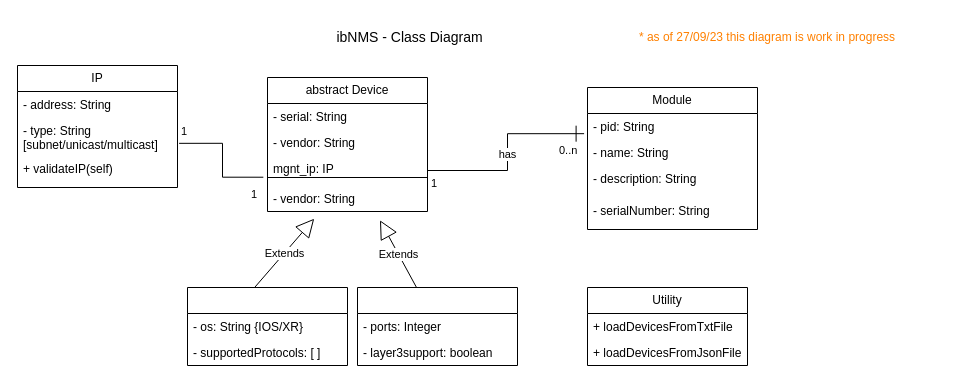
This 965x385 diagram has some shape labels left out. The shapes that lost their labels are listed below. From the top down, each one's box as (x1, y1, x2, y2) in pixels, then its label:
(186, 286, 348, 366): CiscoRouter
(356, 286, 518, 366): CiscoSwitch
